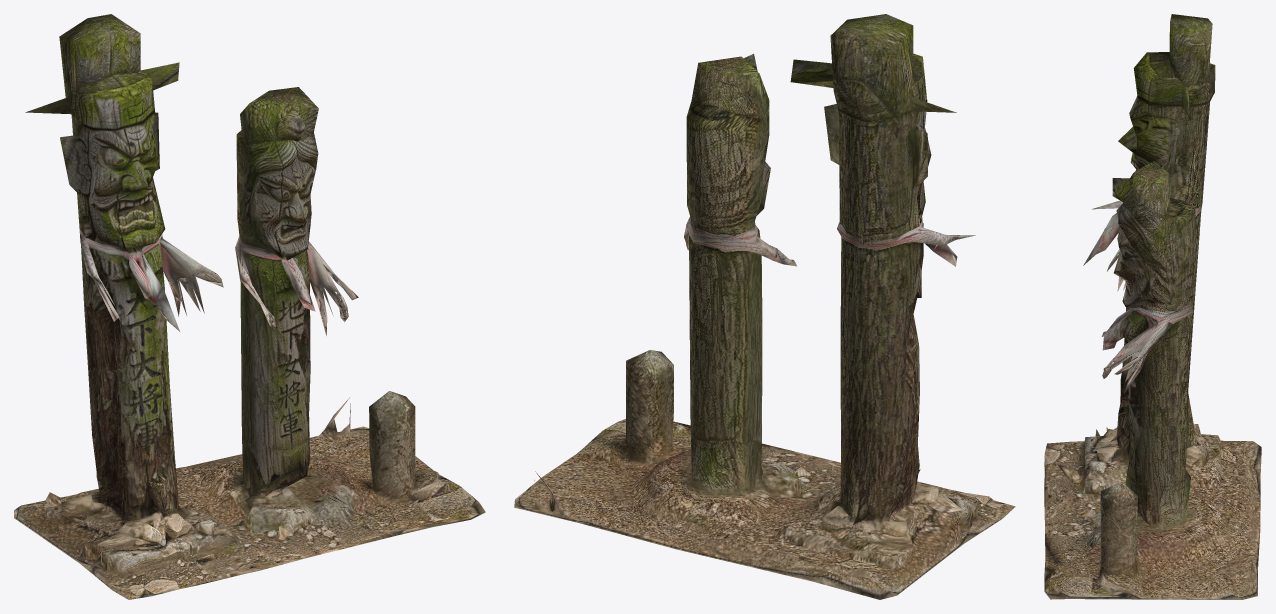
The model's file is totem.fbx.
3 renders of one model, left to right at view 1: azimuth 30°, elevation 25°; view 2: azimuth 150°, elevation 25°; view 3: azimuth 270°, elevation 25°, orthographic. The views are drawn at different scales.
Parts seen in each view (by area): view 1: tripo_node_9519fd87; view 2: tripo_node_9519fd87; view 3: tripo_node_9519fd87.
Boxes of the visible parts, box(x1,y1,x2,y2) form: tripo_node_9519fd87: box(14, 14, 485, 599); tripo_node_9519fd87: box(514, 14, 1015, 599); tripo_node_9519fd87: box(1044, 14, 1261, 599).
Size of the model in its own units: 78.69 by 43.41 by 98.04.
